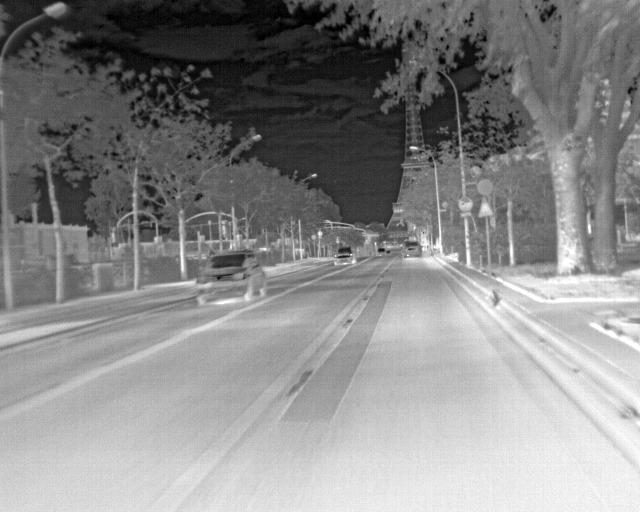car: (196, 251, 266, 304), (335, 246, 356, 265), (401, 241, 422, 258), (377, 248, 386, 256), (386, 250, 391, 255)
light: (221, 225, 226, 235)
sign: (477, 196, 493, 218), (477, 179, 493, 196), (458, 196, 474, 211), (470, 165, 481, 178), (154, 236, 162, 246), (110, 232, 116, 243), (459, 212, 471, 217), (200, 235, 205, 244), (442, 201, 448, 208), (317, 231, 322, 237), (311, 235, 316, 240), (318, 237, 322, 238)
